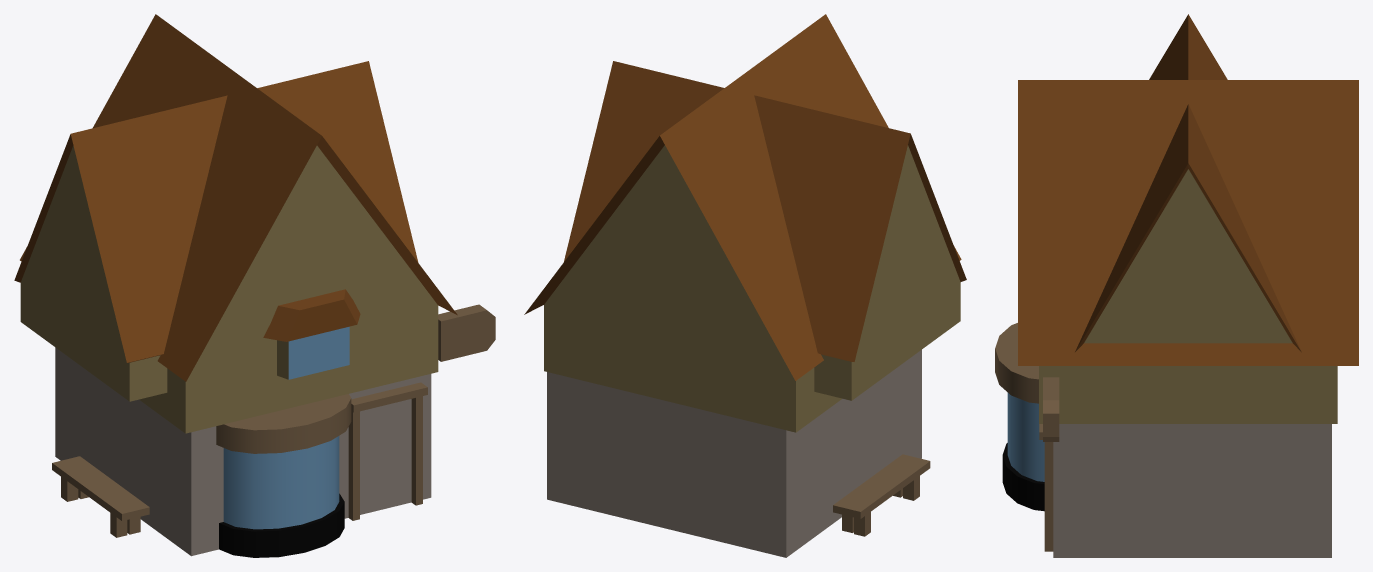
File: Tavern.fbx
The picture shows the model from 3 angles, left to right: view 1: azimuth 30°, elevation 25°; view 2: azimuth 150°, elevation 25°; view 3: azimuth 270°, elevation 25°; orthographic projection. The views are drawn at different scales.
Parts seen in each view (by area): view 1: Tavern; view 2: Tavern; view 3: Tavern.
Boxes of the visible parts, left/top/right/bottom form: Tavern: left=14, top=14, right=495, bottom=557; Tavern: left=524, top=14, right=966, bottom=557; Tavern: left=995, top=14, right=1358, bottom=557.
Size of the model in its own units: 641 by 702 by 557.
